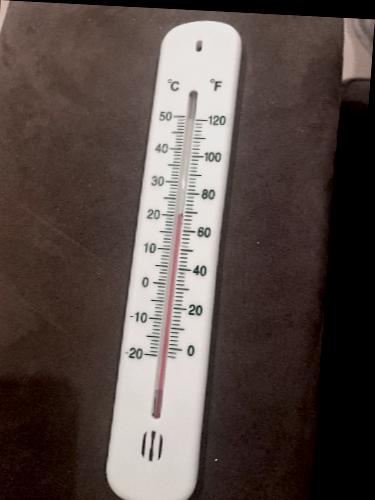thermo: (100, 13, 257, 498)
